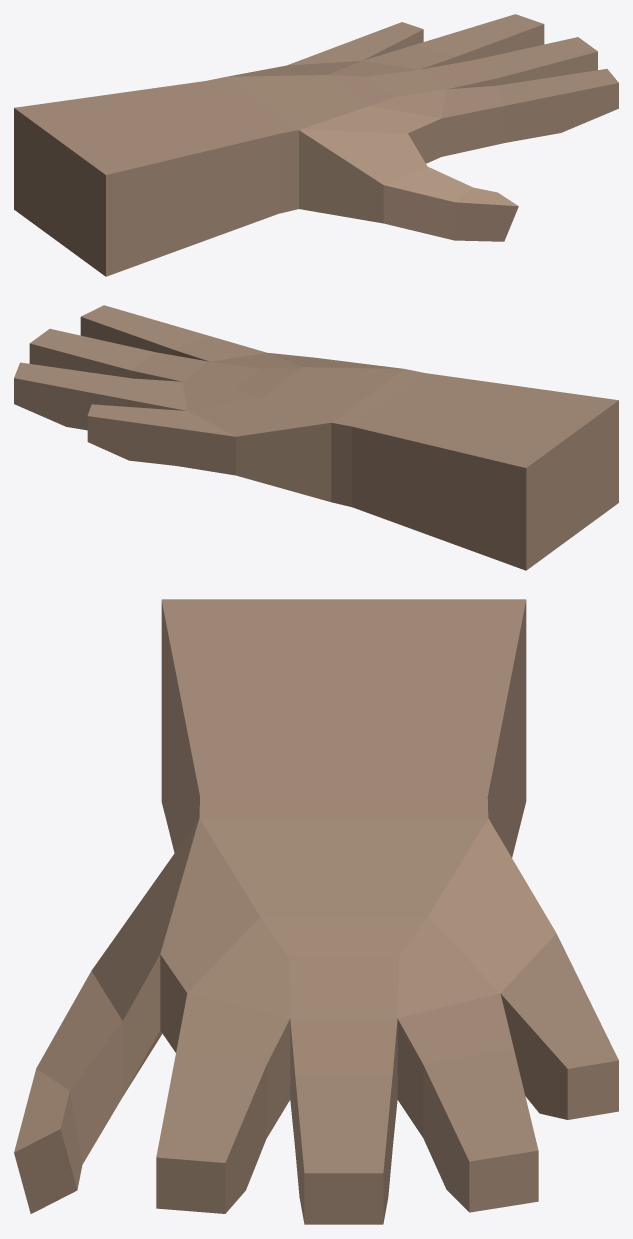
The model's file is OtameshiHand.fbx.
3 renders of one model, top to bottom at view 1: azimuth 30°, elevation 25°; view 2: azimuth 150°, elevation 25°; view 3: azimuth 270°, elevation 25°, orthographic. The views are drawn at different scales.
Visible parts, largest first — view 1: OtameshiHandL; view 2: OtameshiHandL; view 3: OtameshiHandL.
Boxes of the visible parts, box(x1,y1,x2,y2) form: OtameshiHandL: box(14, 14, 618, 276); OtameshiHandL: box(14, 305, 618, 570); OtameshiHandL: box(14, 599, 618, 1224).
Size of the model in its own units: 17.03 by 4.06 by 8.52.
